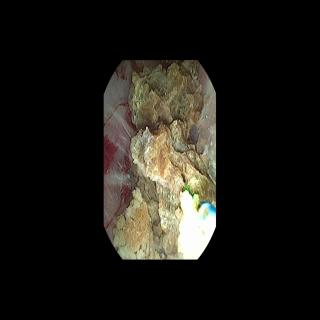stone: (114, 61, 214, 257)
